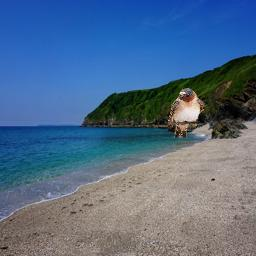Swallow: (168, 88, 204, 138)
